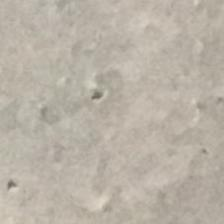Non_Crack: (26, 24, 222, 224)
